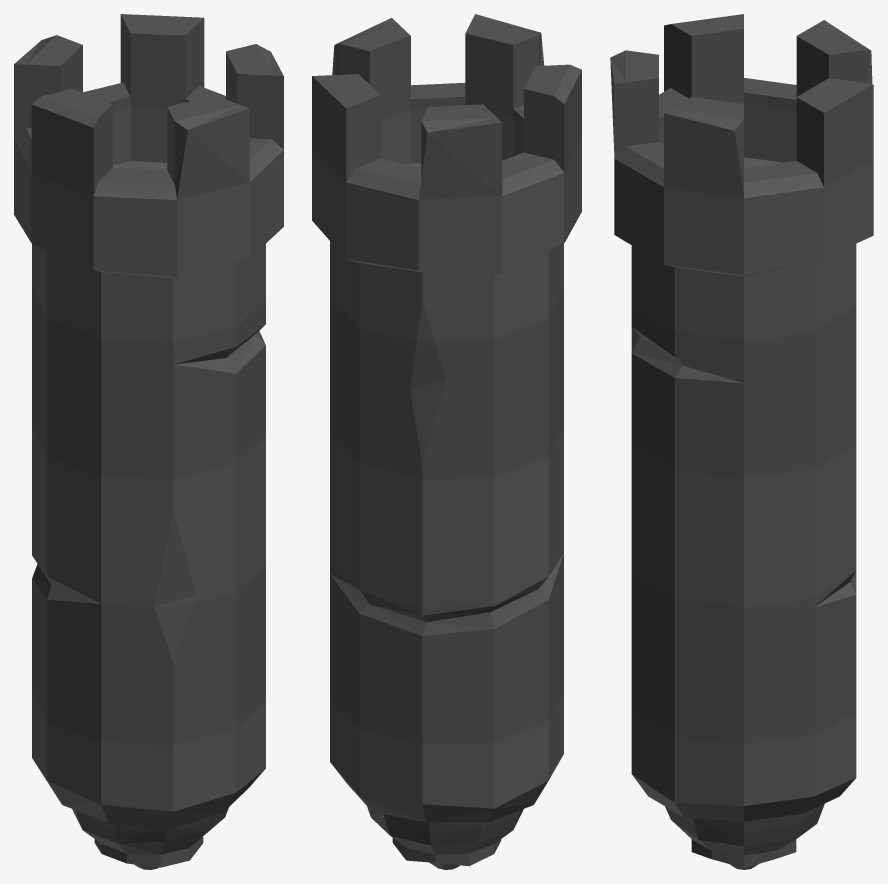
The model's file is SM_Bld_Castle_Tower_Mini_01.gltf.
The picture shows the model from 3 angles, left to right: view 1: azimuth 30°, elevation 25°; view 2: azimuth 150°, elevation 25°; view 3: azimuth 270°, elevation 25°; orthographic projection.
Visible parts, largest first — view 1: SM_Bld_Castle_Tower_Mini_01; view 2: SM_Bld_Castle_Tower_Mini_01; view 3: SM_Bld_Castle_Tower_Mini_01.
Boxes of the visible parts, x1=… form: SM_Bld_Castle_Tower_Mini_01: x1=14, y1=14, x2=283, y2=869; SM_Bld_Castle_Tower_Mini_01: x1=312, y1=14, x2=581, y2=869; SM_Bld_Castle_Tower_Mini_01: x1=610, y1=14, x2=873, y2=869.
Size of the model in its own units: 1.58 by 5.12 by 1.53.
Materials: 1 (1 with a texture image).
